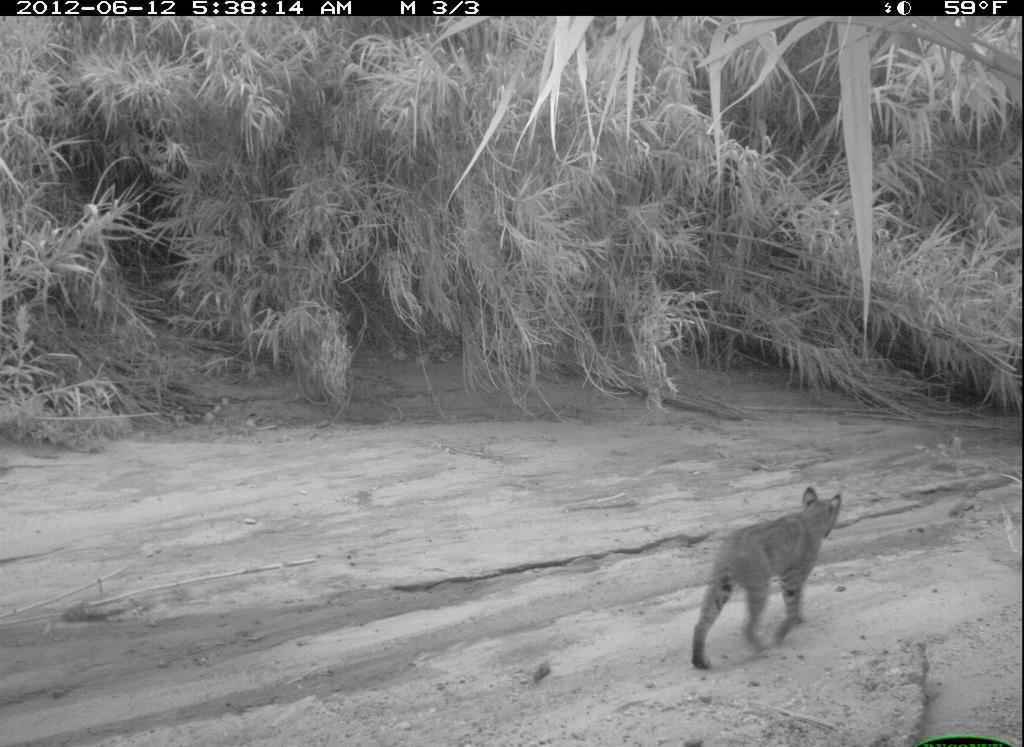bobcat: (688, 477, 848, 679)
